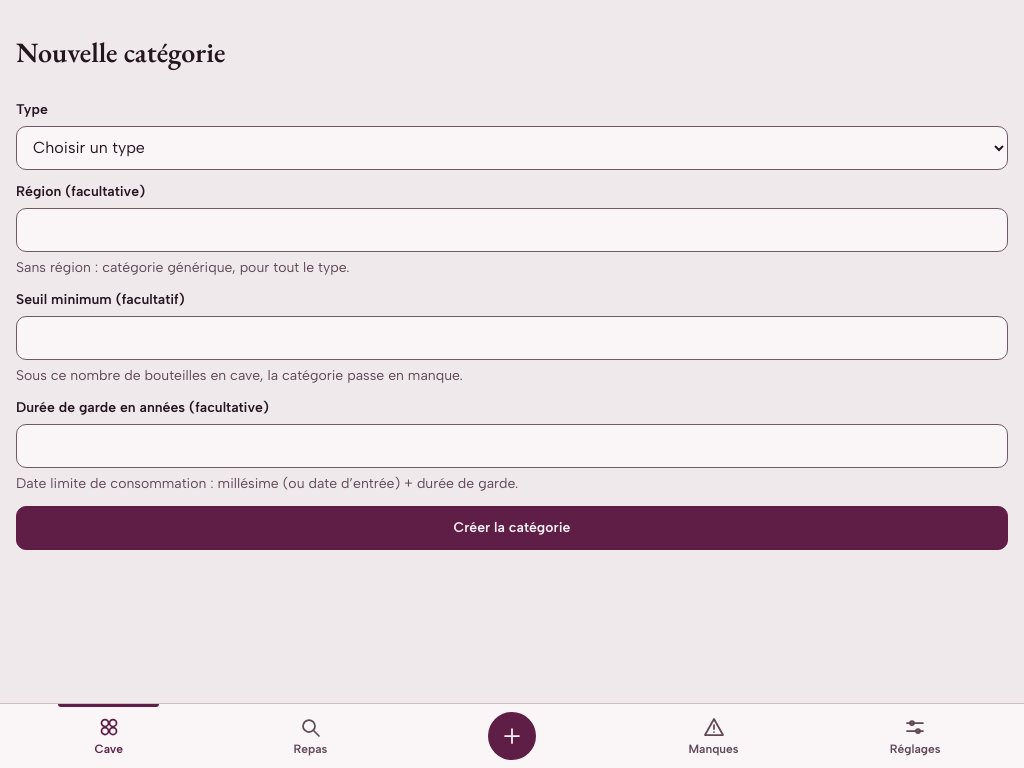
Test: Catégories (CdC §2.5, §3.9) › création : type, région, seuil et durée de garde envoyés, retour à la liste
The image size is (1024, 768).
Step 1. Select "Rouge" in the dropdown labelled "Type" → x=512, y=148, box [16,126,1008,170]
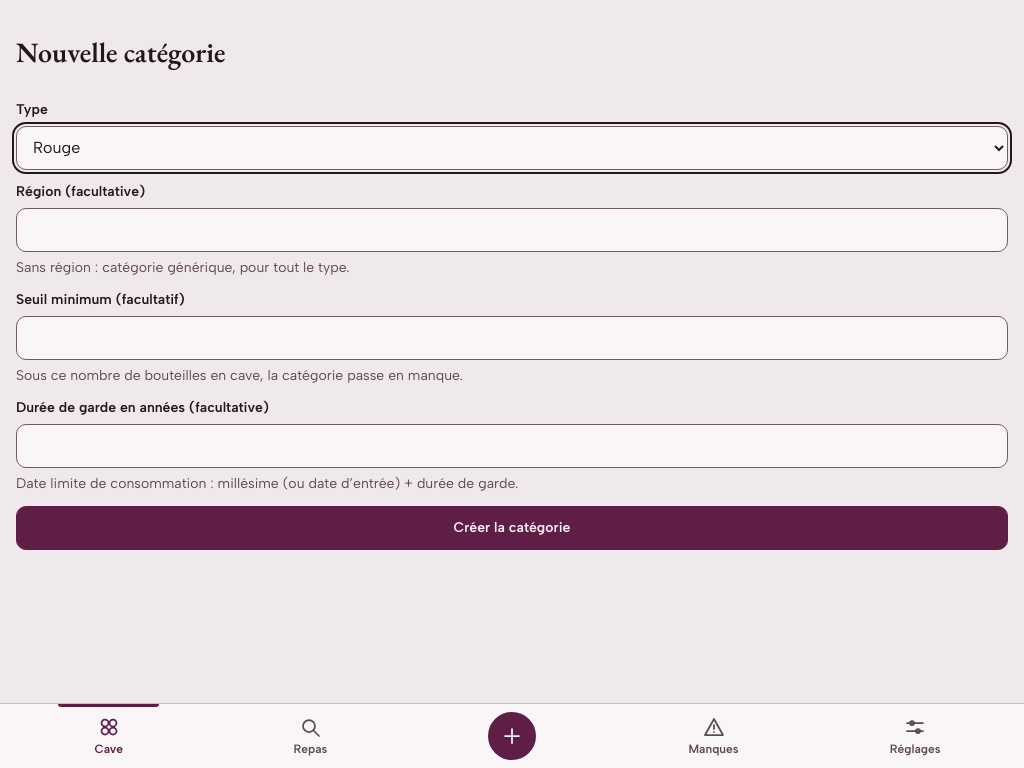
Step 2. Type "Bordeaux" into the field labelled "Région (facultative)" → x=512, y=230, box [16,208,1008,252]
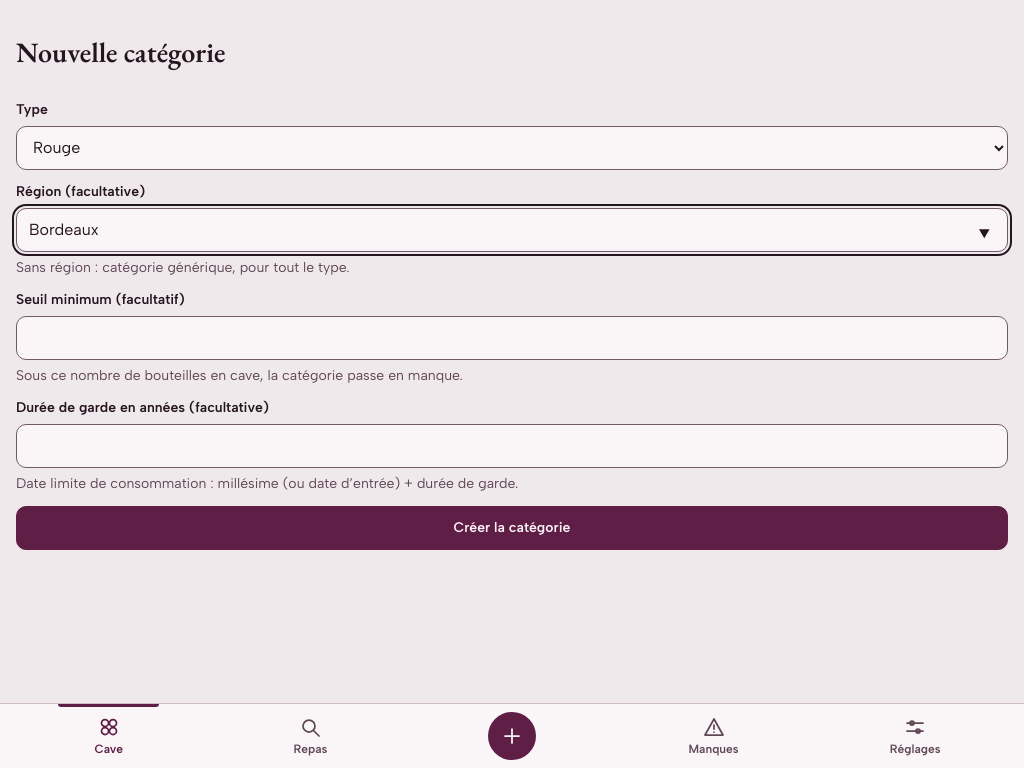
Step 3. Type "3" into the field labelled "Seuil minimum (facultatif)" → x=512, y=338, box [16,316,1008,360]
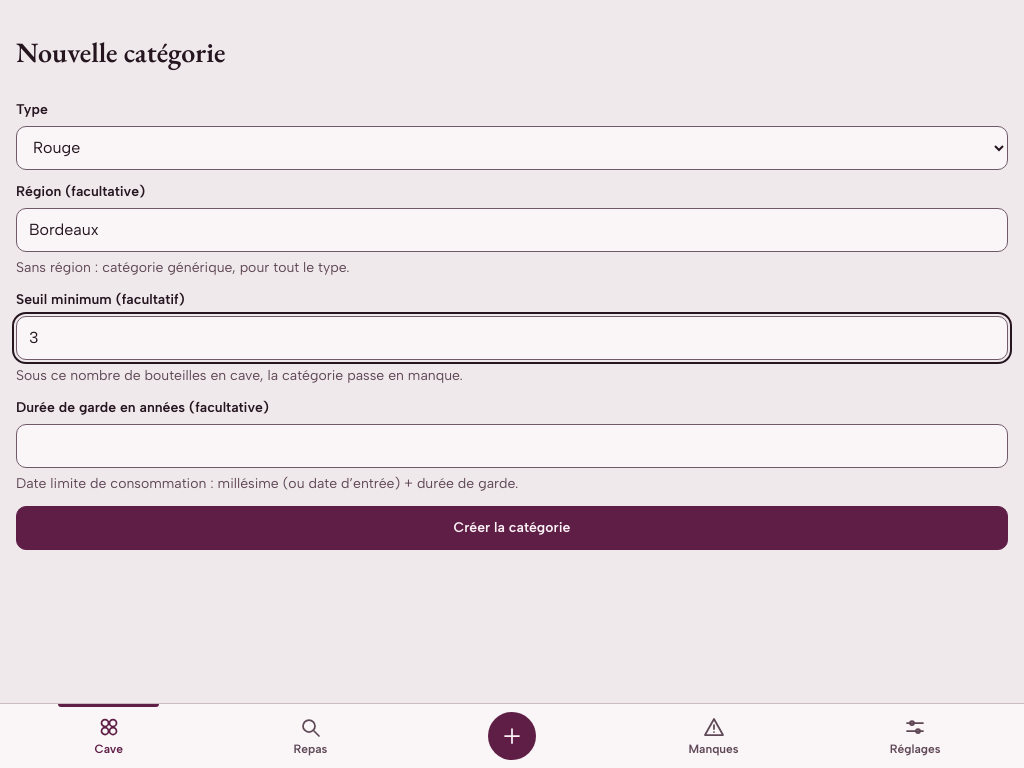
Step 4. Type "12" into the field labelled "Durée de garde en années (facultative)" → x=512, y=446, box [16,424,1008,468]
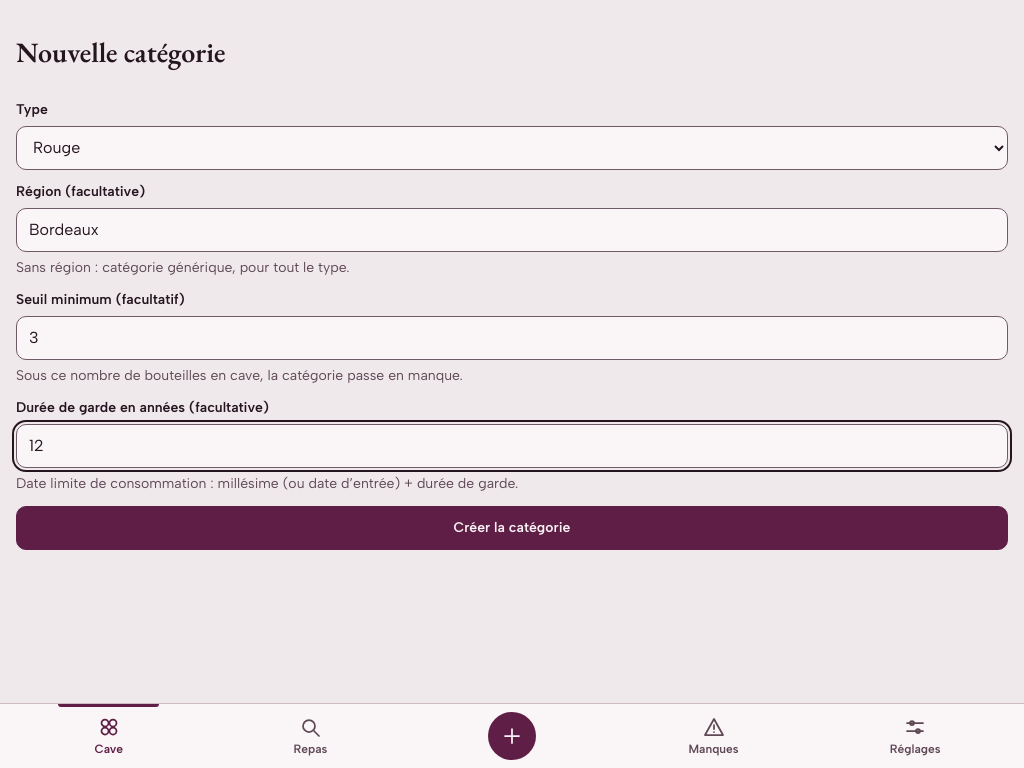
Step 5. Click the button "Créer la catégorie" → x=512, y=528, box [16,506,1008,550]
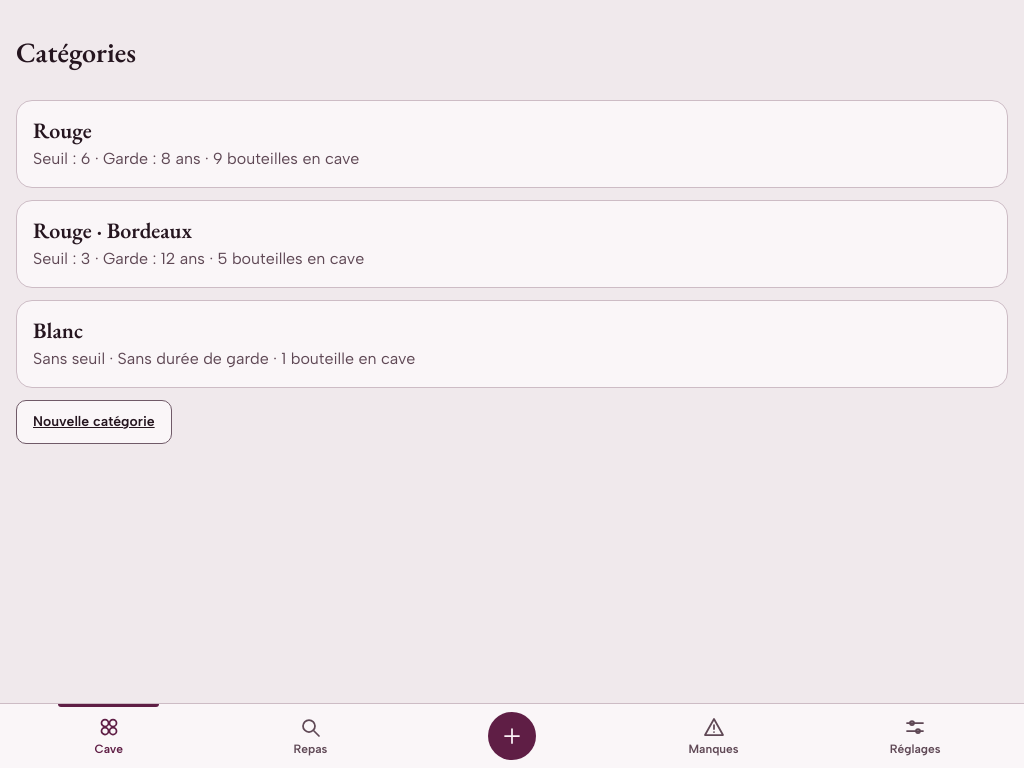
expect the heading "Catégories" is shown: met, box [16,34,136,70]
